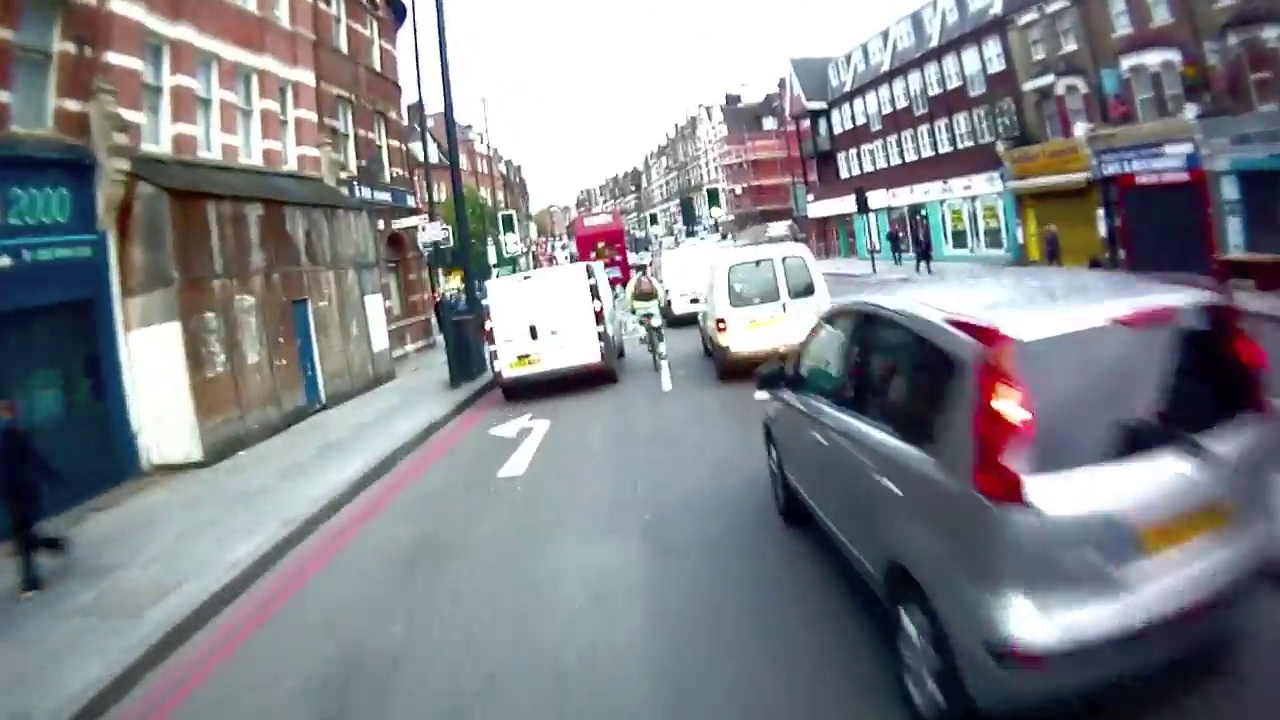cyclist_back: (620, 257, 671, 375)
